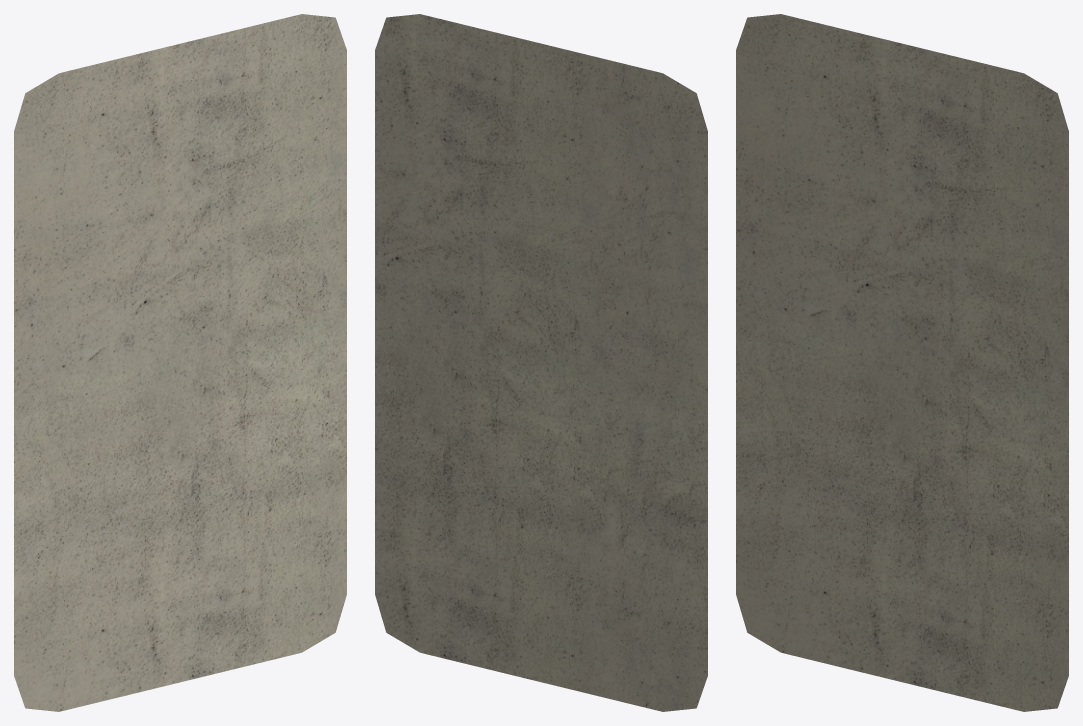
The model's file is GSDRailing2-Cap.FBX.
The picture shows the model from 3 angles, left to right: view 1: azimuth 30°, elevation 25°; view 2: azimuth 150°, elevation 25°; view 3: azimuth 330°, elevation 25°; orthographic projection.
Visible parts, largest first — view 1: GSDRailing2-Cap; view 2: GSDRailing2-Cap; view 3: GSDRailing2-Cap.
Boxes of the visible parts, bbox=[...] form: GSDRailing2-Cap: bbox=[14, 14, 346, 711]; GSDRailing2-Cap: bbox=[375, 14, 707, 711]; GSDRailing2-Cap: bbox=[736, 14, 1068, 711].
Size of the model in its own units: 0.3 by 0.55 by 5.01e-07.
